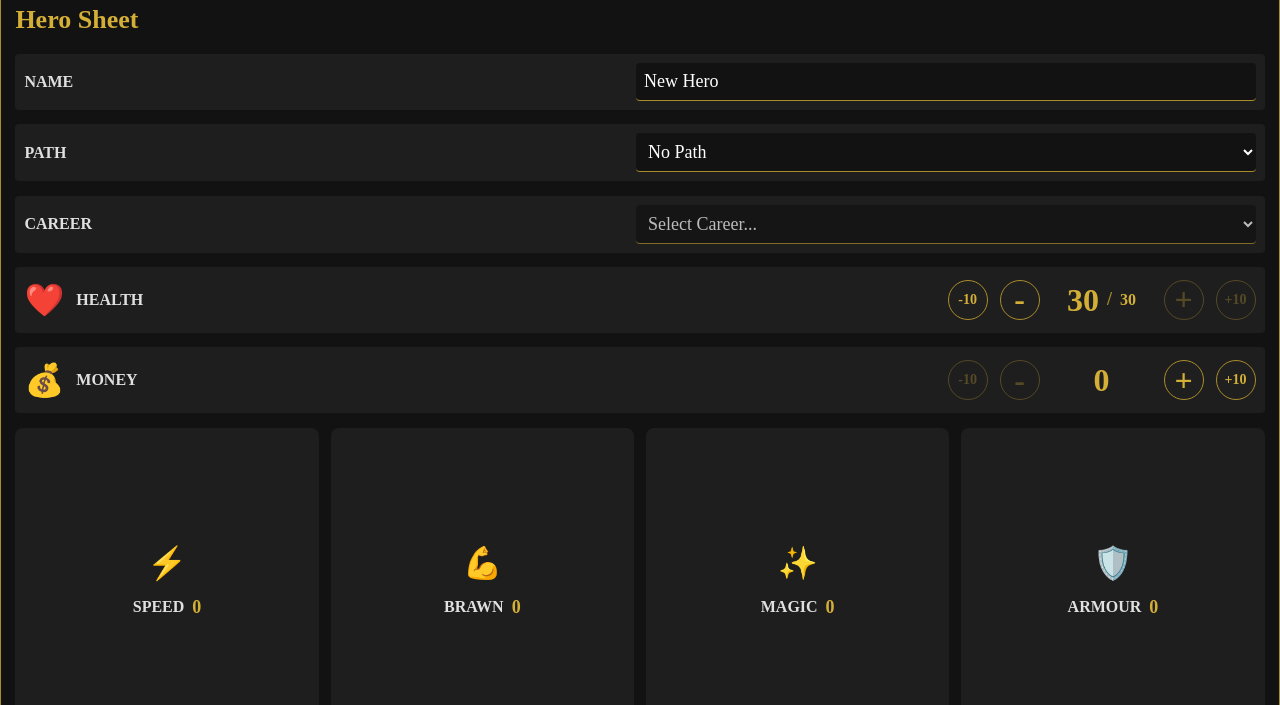
Test: HeroStats Integration › should display career abilities when career is selected
The width and height of the screenshot is (1280, 705).
Select "Warrior (+15 HP)" in the dropdown in the row of "Path" at (946, 153), box [636,133,1256,172]
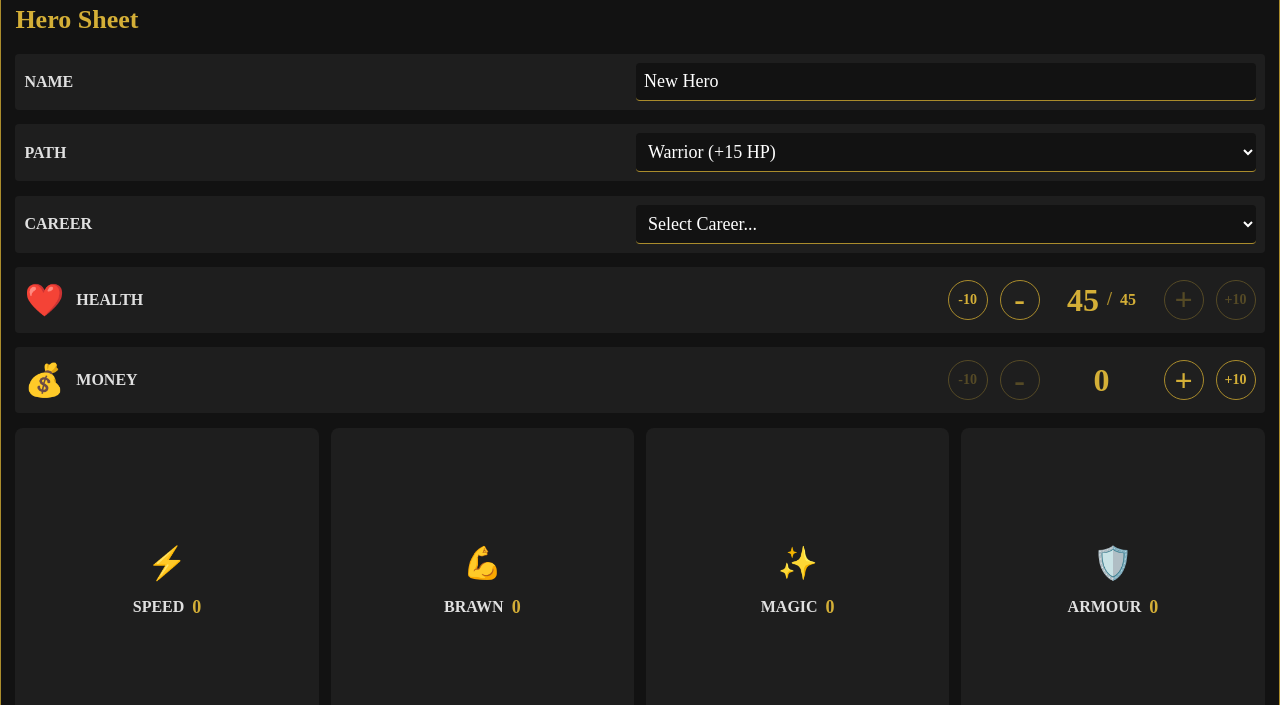
Expected: the dropdown in the row of "Career" is enabled
Select "Gladiator" in the dropdown in the row of "Career" at (946, 224), box [636,205,1256,244]
(page scrolled)
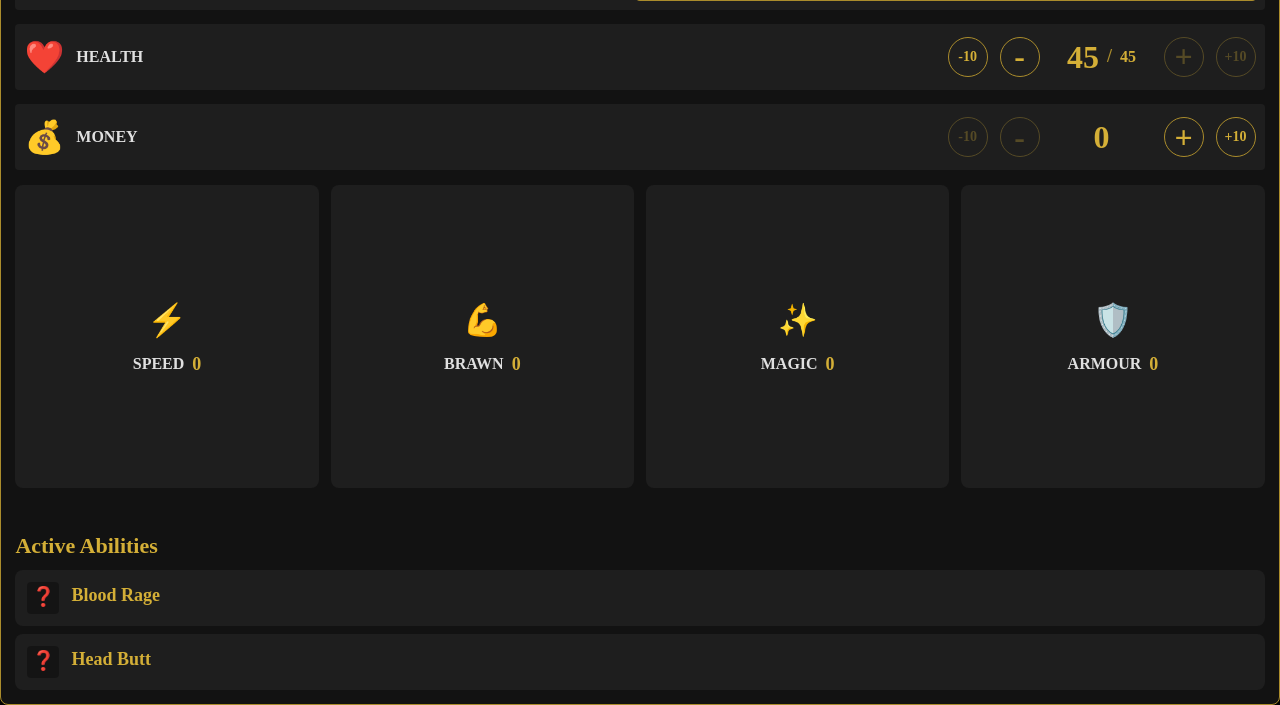
Expected: the text "Blood Rage" is shown, [71,582,160,609]
